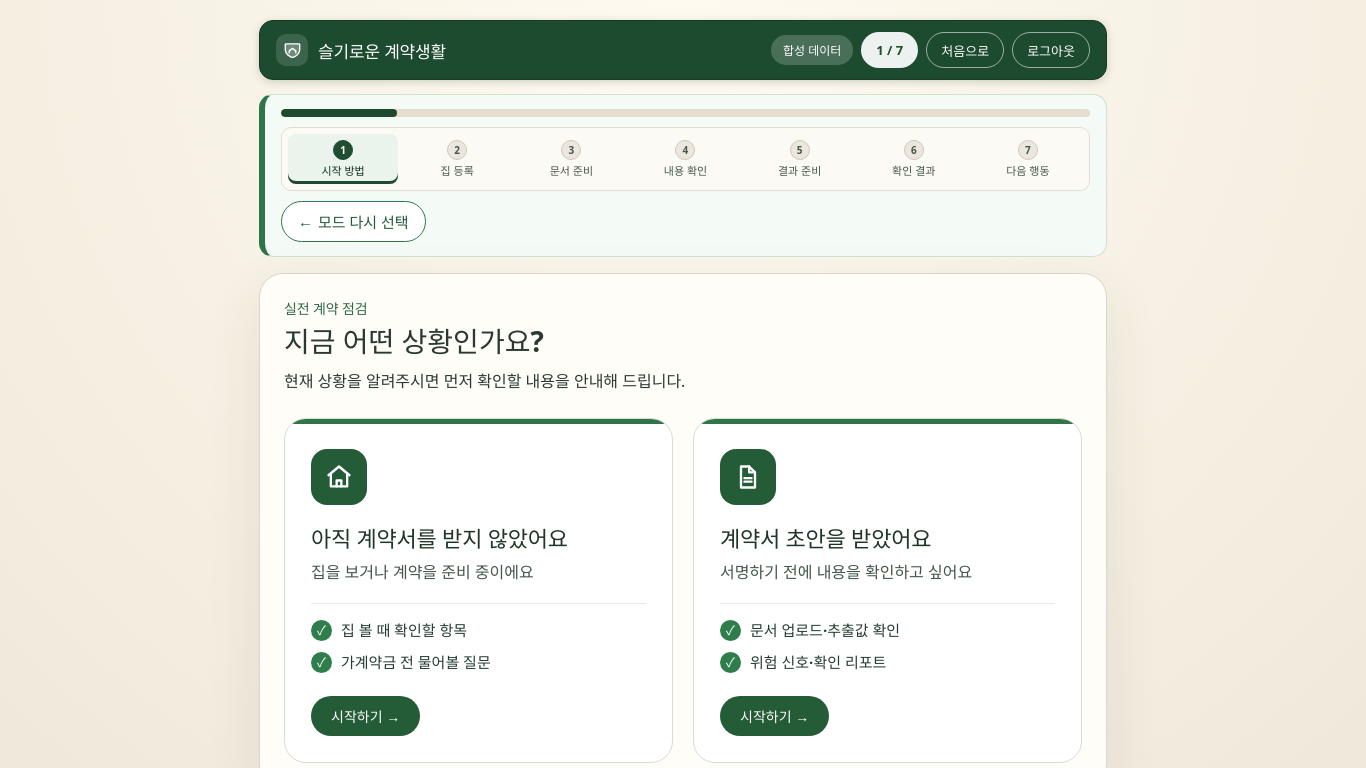
Test: situation selection › opens the preparation page from the first situation card
This screenshot has width=1366, height=768.
Click the link "아직 계약서를 받지 않았어요".
click(339, 477)  # box 284,418 -> 673,763
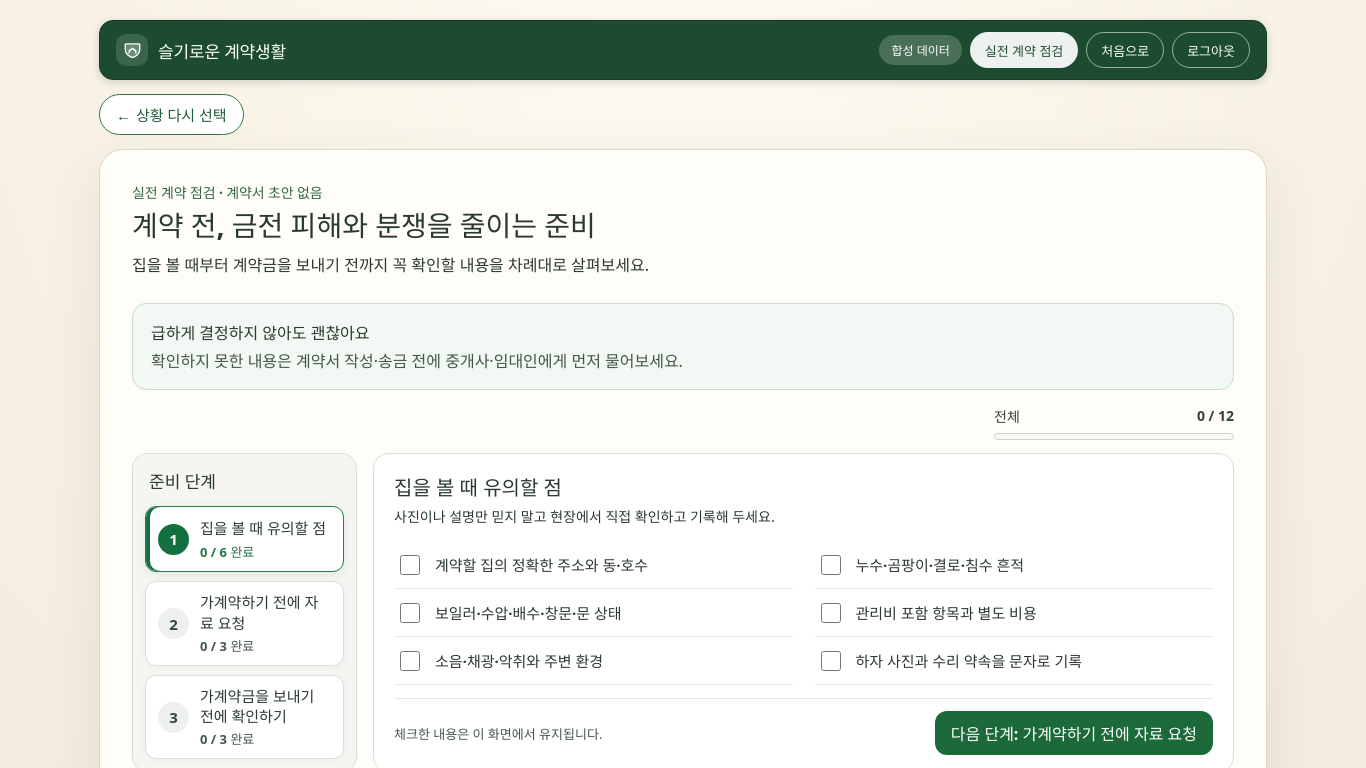
Expected: the heading "계약 전, 금전 피해와 분쟁을 줄이는 준비" is shown, 132,206 -> 596,244
